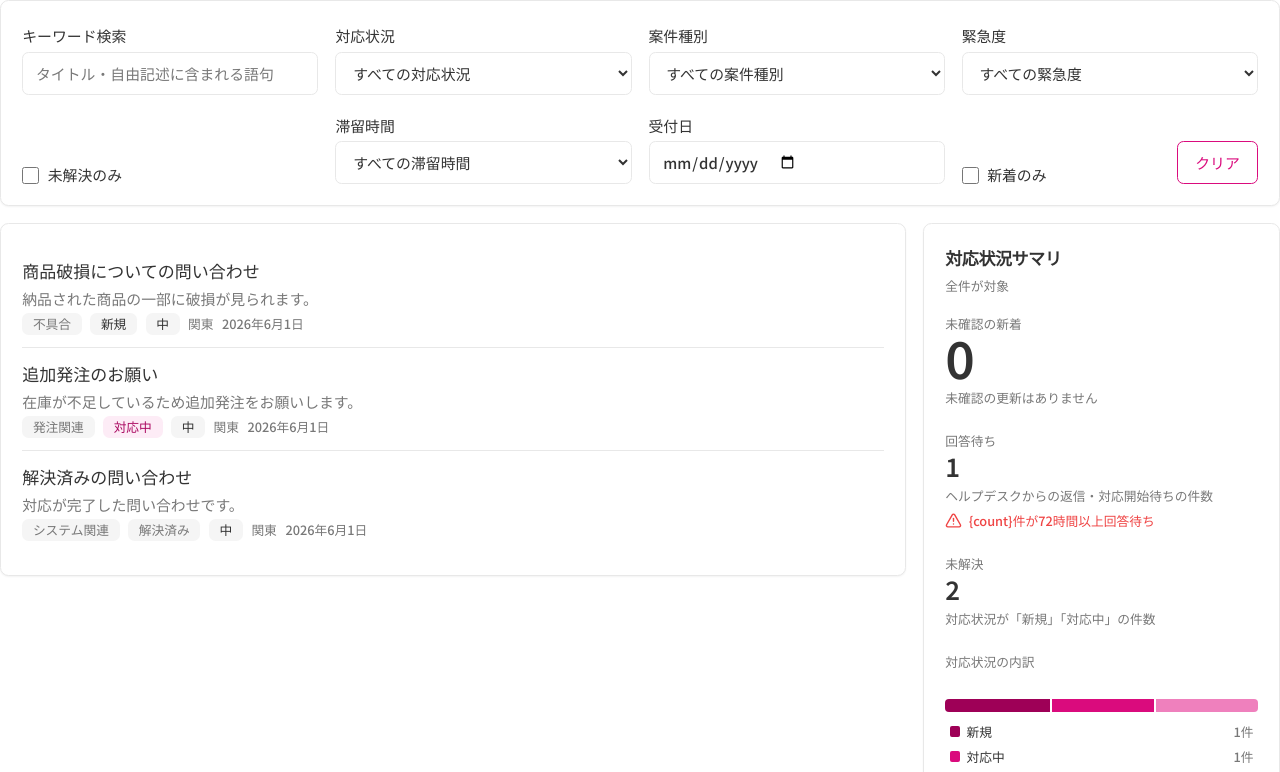
it: InquiryListClient › 未解決のみを選んだ状態で対応状況を解決済みに変更すると、未解決のみが解除され一覧が空にならない
This screenshot has width=1280, height=772.
Click the checkbox labelled "未解決のみ" at {"x": 31, "y": 175}, box left=22, top=167, right=39, bottom=184
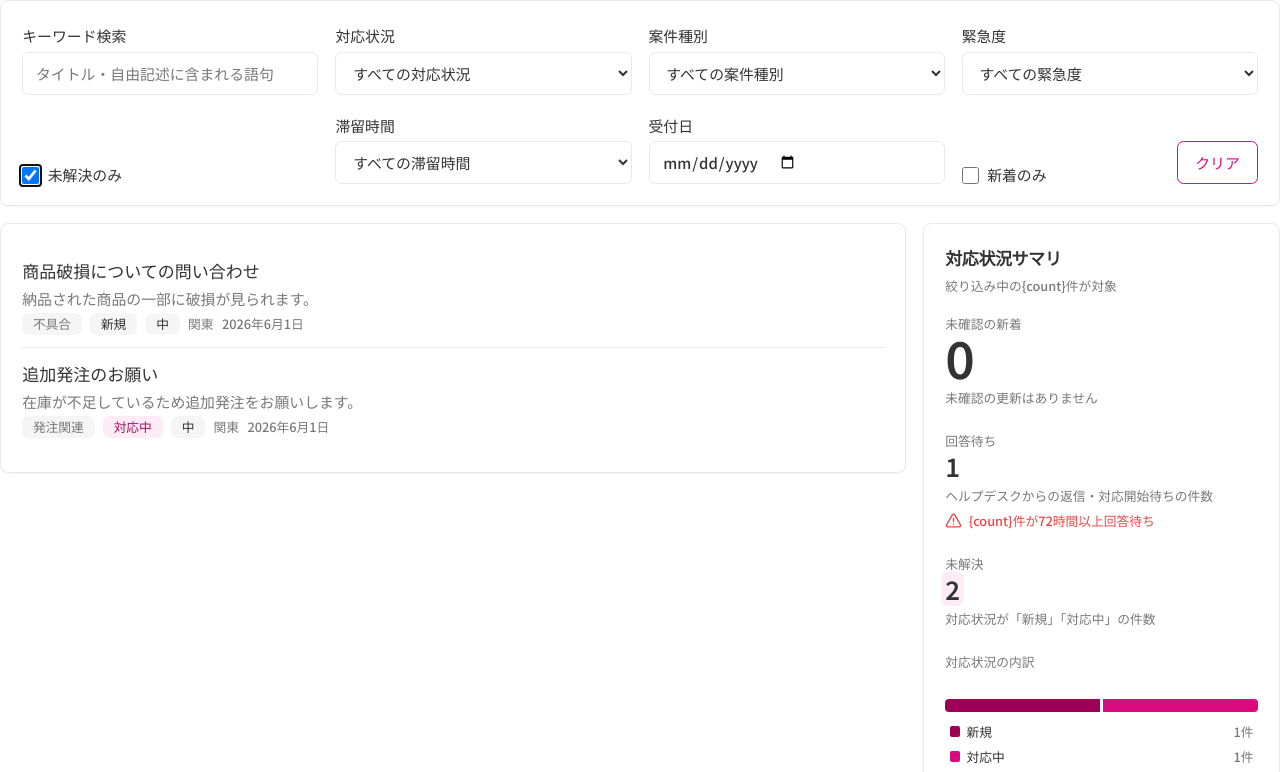
Select "解決済み" in the dropdown labelled "対応状況" at {"x": 483, "y": 73}, box left=335, top=52, right=632, bottom=94
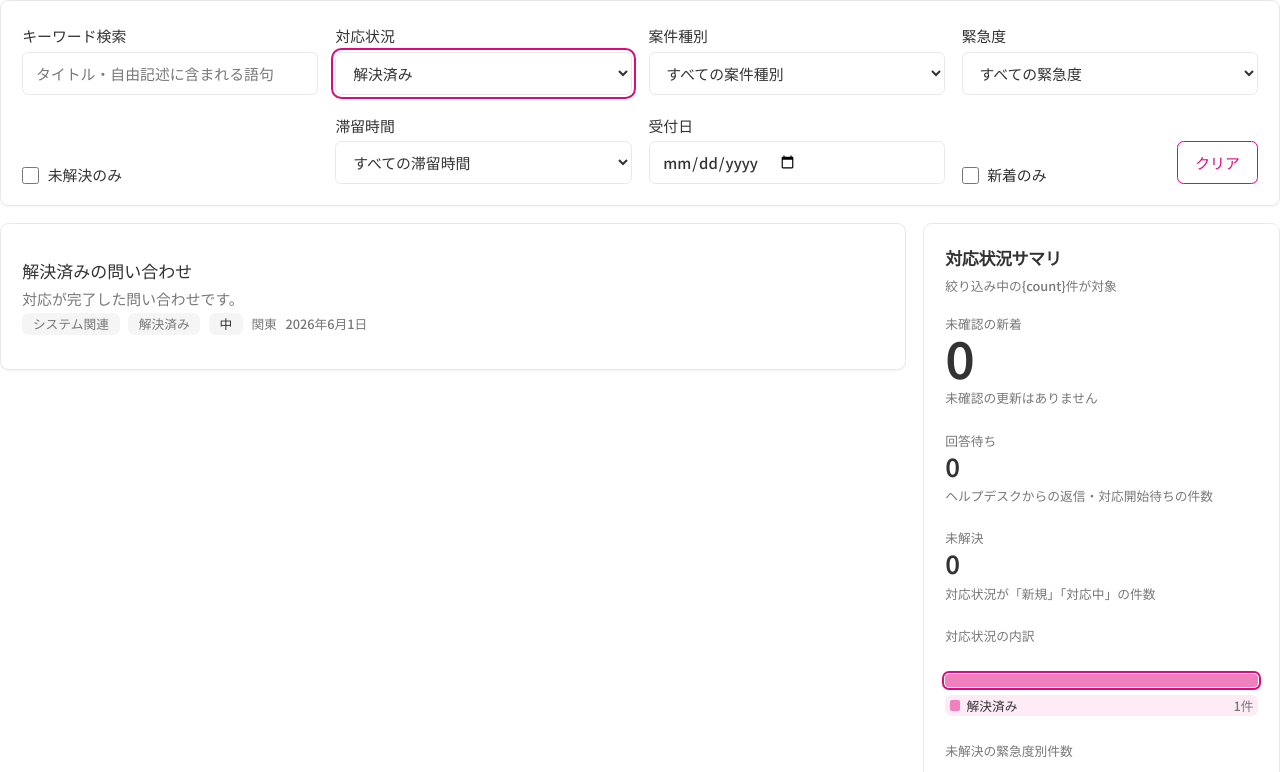
Check: the checkbox labelled "未解決のみ" is not checked, box left=22, top=167, right=39, bottom=184
Check: the link "解決済みの問い合わせ" is shown, box left=22, top=258, right=192, bottom=284
Check: the link "商品破損についての問い合わせ" is gone
